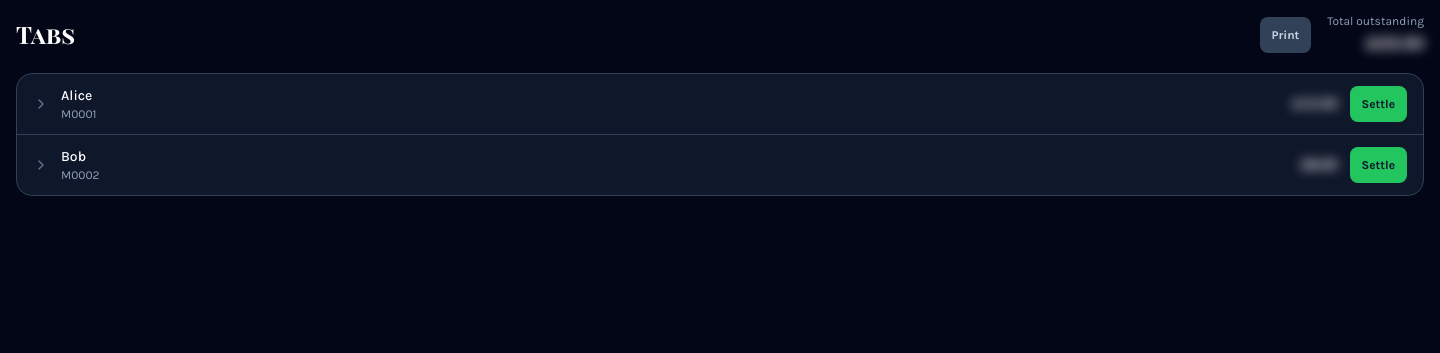
Scenario: TabsPage › expands a row to show orders when clicked
Click the text "Alice" at (77, 96), box [61,87,92,104]
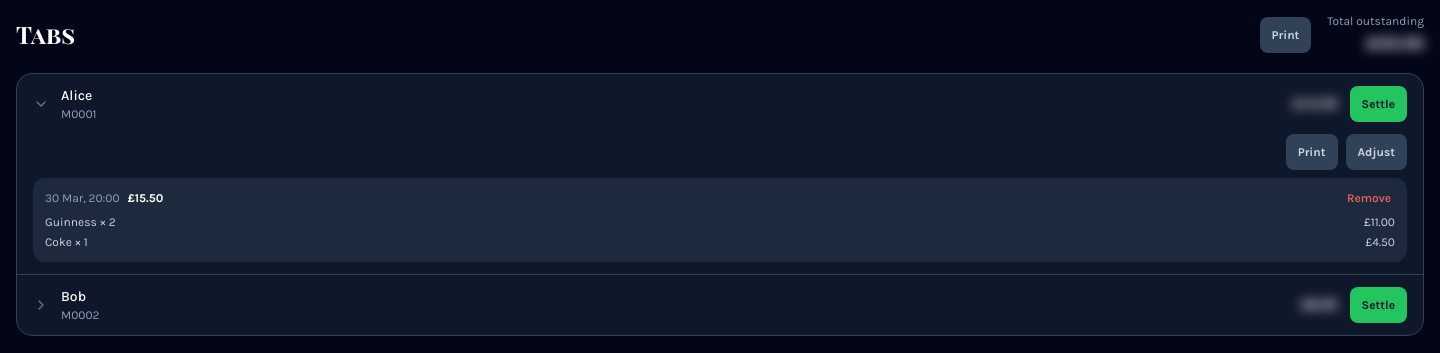
Now the text "Guinness" is shown, box [45,215,97,229]
Now the text "Coke" is shown, box [45,235,72,249]
